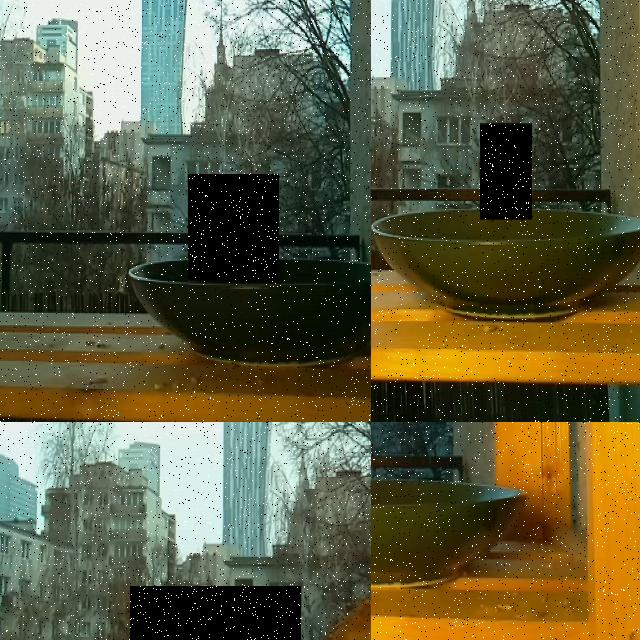Bogatka: (130, 586, 301, 640), (480, 123, 532, 220)
Wrobel: (188, 175, 279, 282), (311, 593, 371, 640)
